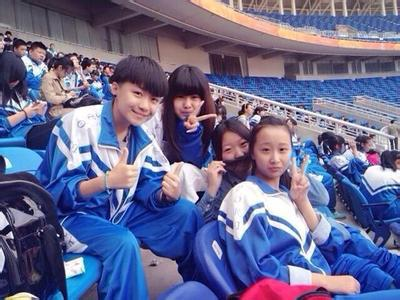NONE: (124, 85, 159, 126), (222, 134, 256, 174), (259, 140, 291, 176), (175, 91, 204, 120), (16, 43, 28, 56), (70, 55, 82, 68), (37, 49, 47, 63), (59, 66, 70, 77), (363, 140, 372, 153), (87, 62, 95, 73), (245, 106, 253, 116), (260, 109, 266, 118)
OK: (339, 140, 347, 155)
